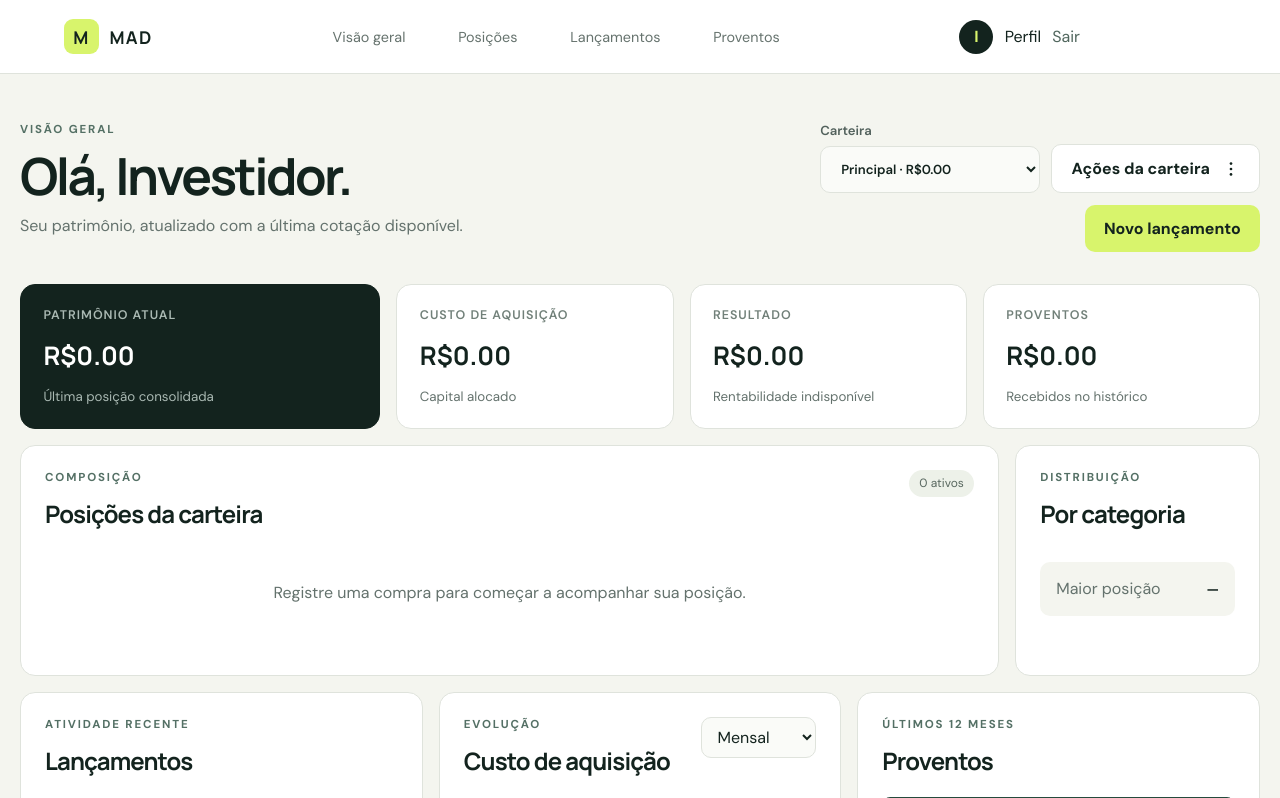
Scenario: DashboardComponent - lançamentos › agrupa as ações da carteira em um menu acessível
Click the button with class "wallet-actions-trigger": {"x": 1156, "y": 169} x1=1051 y1=144 x2=1260 y2=193
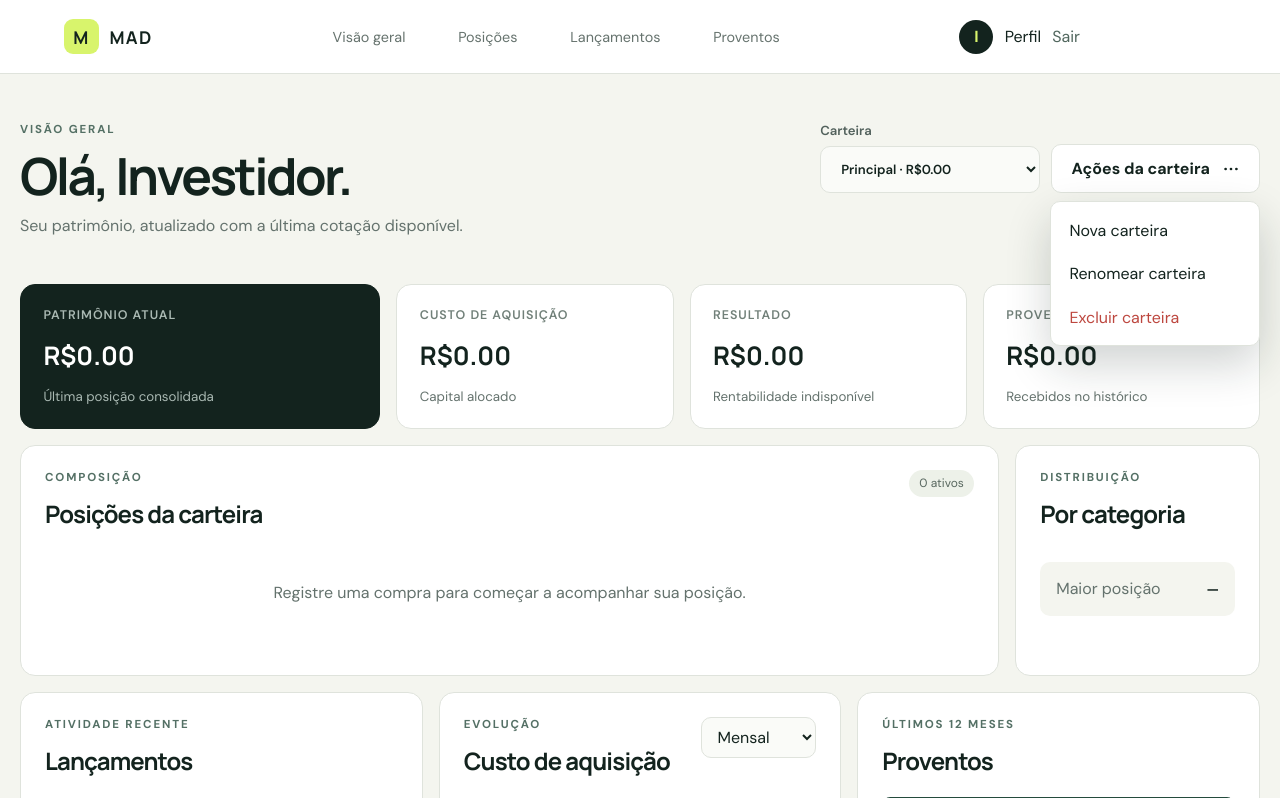
Expected: the button with class "wallet-actions-trigger" is expanded, x1=1051 y1=144 x2=1260 y2=193
